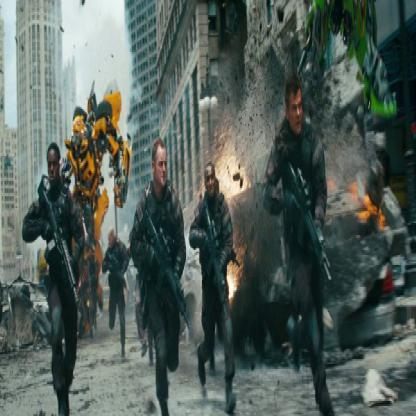Gun: (283, 149, 332, 290), (142, 208, 192, 334), (36, 169, 80, 307), (200, 196, 227, 329), (105, 243, 129, 292)
